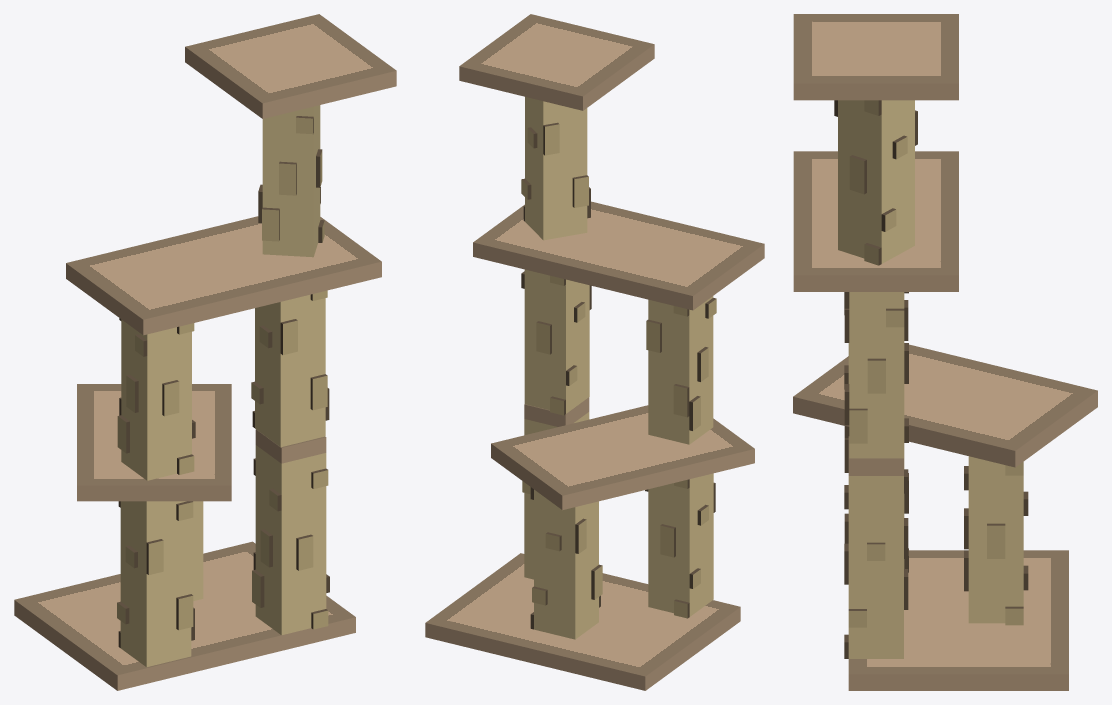
Rendered from CatTree.fbx.
3 views of the same model, side by side, from view 1: azimuth 30°, elevation 25°; view 2: azimuth 150°, elevation 25°; view 3: azimuth 270°, elevation 25° (orthographic). The views are drawn at different scales.
Parts seen in each view (by area): view 1: basePlate_3, basePlate, basePlate_4, pillar, pillar_4, basePlate_1, pillar_3, pillar_1, pillar_2, pillar_5, basePlate_2; view 2: basePlate, basePlate_3, basePlate_1, basePlate_4, pillar_3, pillar_5, pillar_1, pillar_4, pillar_2, pillar, basePlate_2; view 3: basePlate, basePlate_1, basePlate_3, basePlate_4, pillar_2, pillar, pillar_1, pillar_5, basePlate_2, pillar_4.
Boxes of the visible parts, x1=… form: basePlate_3: x1=66, y1=216, x2=381, y2=335; basePlate: x1=14, y1=541, x2=355, y2=690; basePlate_4: x1=185, y1=14, x2=396, y2=118; pillar: x1=252, y1=445, x2=329, y2=635; pillar_4: x1=117, y1=501, x2=194, y2=667; basePlate_1: x1=77, y1=384, x2=231, y2=501; pillar_3: x1=117, y1=318, x2=195, y2=480; pillar_1: x1=251, y1=290, x2=329, y2=447; pillar_2: x1=258, y1=105, x2=324, y2=257; pillar_5: x1=191, y1=501, x2=203, y2=600; basePlate_2: x1=255, y1=429, x2=326, y2=463; basePlate: x1=425, y1=553, x2=740, y2=690; basePlate_3: x1=473, y1=201, x2=764, y2=310; basePlate_1: x1=491, y1=405, x2=754, y2=510; basePlate_4: x1=459, y1=14, x2=654, y2=110; pillar_3: x1=646, y1=296, x2=716, y2=444; pillar_5: x1=530, y1=487, x2=602, y2=639; pillar_1: x1=521, y1=269, x2=591, y2=415; pillar_4: x1=645, y1=473, x2=715, y2=618; pillar_2: x1=521, y1=97, x2=590, y2=240; pillar: x1=522, y1=412, x2=589, y2=579; basePlate_2: x1=524, y1=397, x2=589, y2=426; basePlate: x1=848, y1=550, x2=1068, y2=690; basePlate_1: x1=793, y1=344, x2=1097, y2=467; basePlate_3: x1=793, y1=151, x2=958, y2=291; basePlate_4: x1=793, y1=14, x2=958, y2=100; pillar_2: x1=834, y1=100, x2=917, y2=265; pillar: x1=844, y1=469, x2=908, y2=658; pillar_1: x1=844, y1=292, x2=908, y2=458; pillar_5: x1=964, y1=456, x2=1028, y2=625; basePlate_2: x1=848, y1=436, x2=903, y2=475; pillar_4: x1=844, y1=426, x2=908, y2=572.
Bounding box in the file's own units: 118 × 231 × 104.
1 material, 1 textured.
